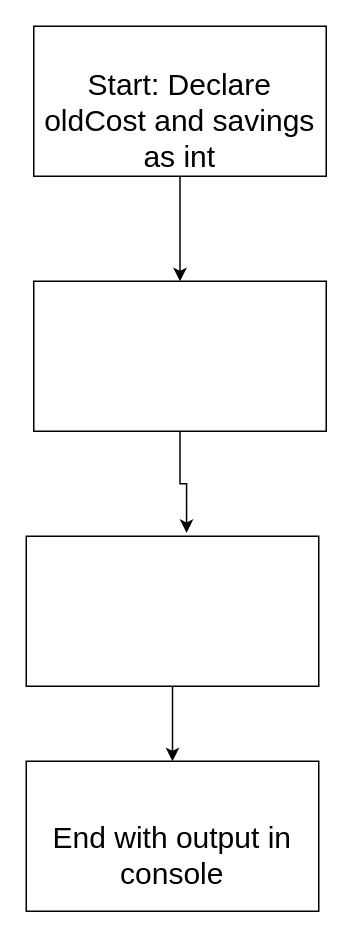
This 353x938 diagram has some shape labels left out. The box of each missing label's shape, as (x1, y1, x2, y2) in pixels:
Calculate newCost = oldCost - savings and rate = savings / oldCost * 100: (32, 280, 326, 431)
Print newCost and rate with +: (25, 535, 319, 686)
